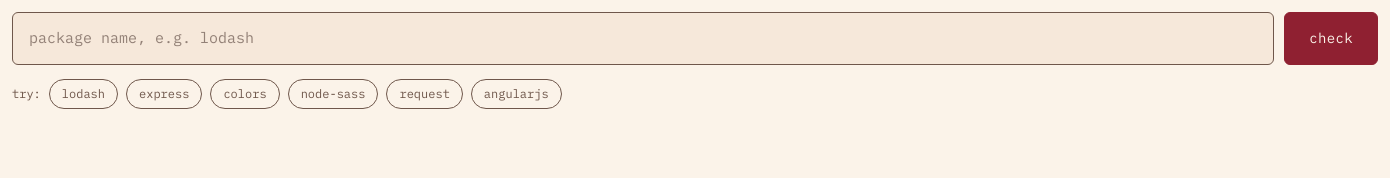
Test case: error handling › distinguishes an upstream outage from a missing package
This screenshot has width=1390, height=178.
Type "examplepkg" into the field labelled "package name, e.g. lodash" at (643, 38), box [12, 12, 1274, 64]
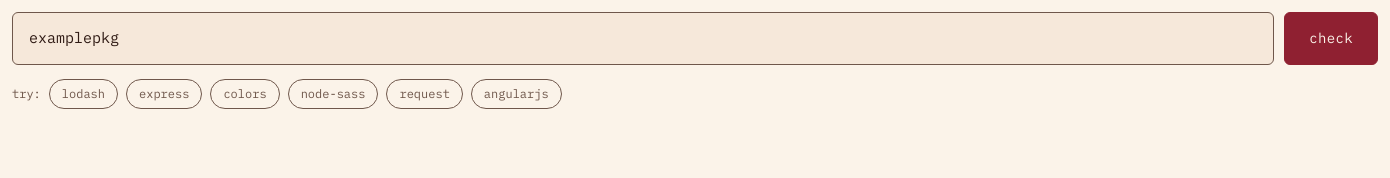
Click the button "check" at (1331, 38), box [1284, 12, 1378, 64]
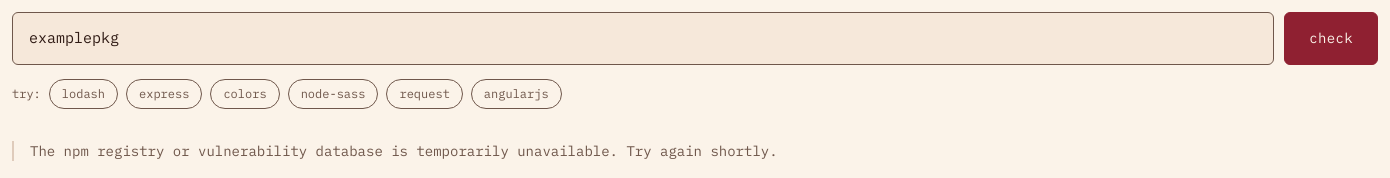
Expected: the message shows "temporarily unavailable", [30, 142, 778, 160]
